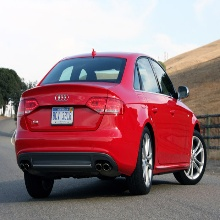no damage: (13, 52, 208, 195)
